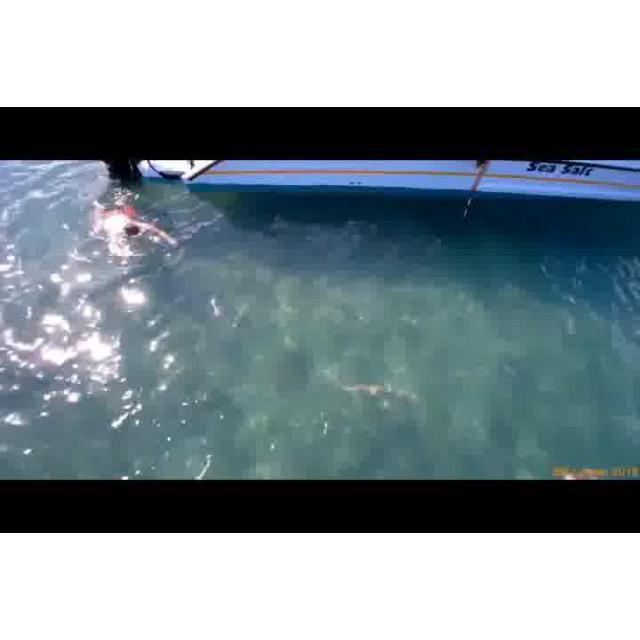human: (90, 202, 176, 261)
